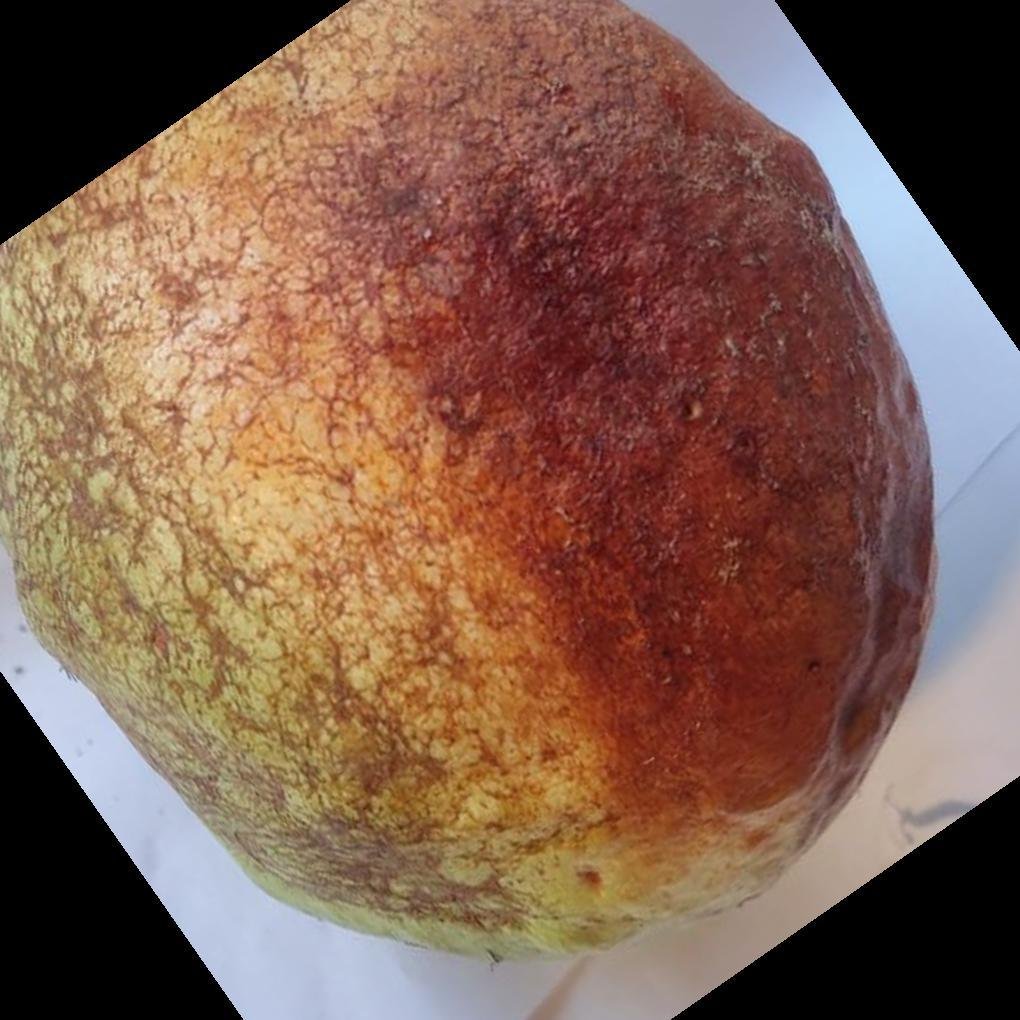FreshOrange: (0, 0, 938, 968)
